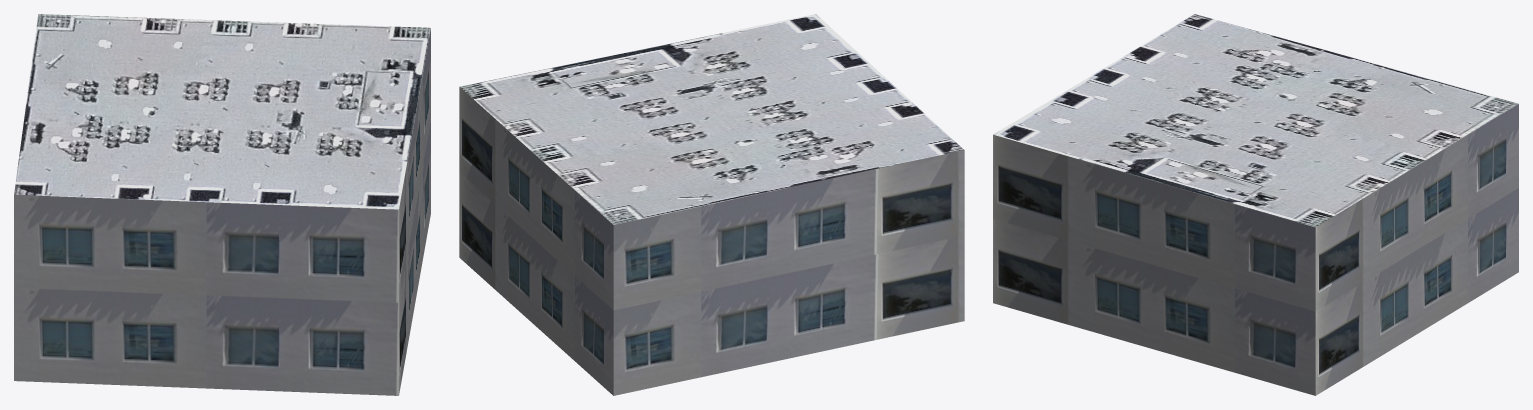
File: ResTex__3210.fbx
3 renders of one model, left to right at view 1: azimuth 30°, elevation 25°; view 2: azimuth 150°, elevation 25°; view 3: azimuth 270°, elevation 25°, orthographic. The views are drawn at different scales.
Visible parts, largest first — view 1: CityEngineMaterial_10_m, CityEngineMaterial_8_m; view 2: CityEngineMaterial_10_m, CityEngineMaterial_8_m; view 3: CityEngineMaterial_10_m, CityEngineMaterial_8_m.
Part boxes in pixels (x1,y1,x2,y2): CityEngineMaterial_10_m: (14,28,430,395); CityEngineMaterial_8_m: (14,14,430,209); CityEngineMaterial_10_m: (459,87,964,395); CityEngineMaterial_8_m: (460,14,963,224); CityEngineMaterial_10_m: (993,104,1518,395); CityEngineMaterial_8_m: (993,14,1518,227).
Size of the model in its own units: 16.3 by 6 by 16.97.
Materials: 2 (2 with a texture image).
